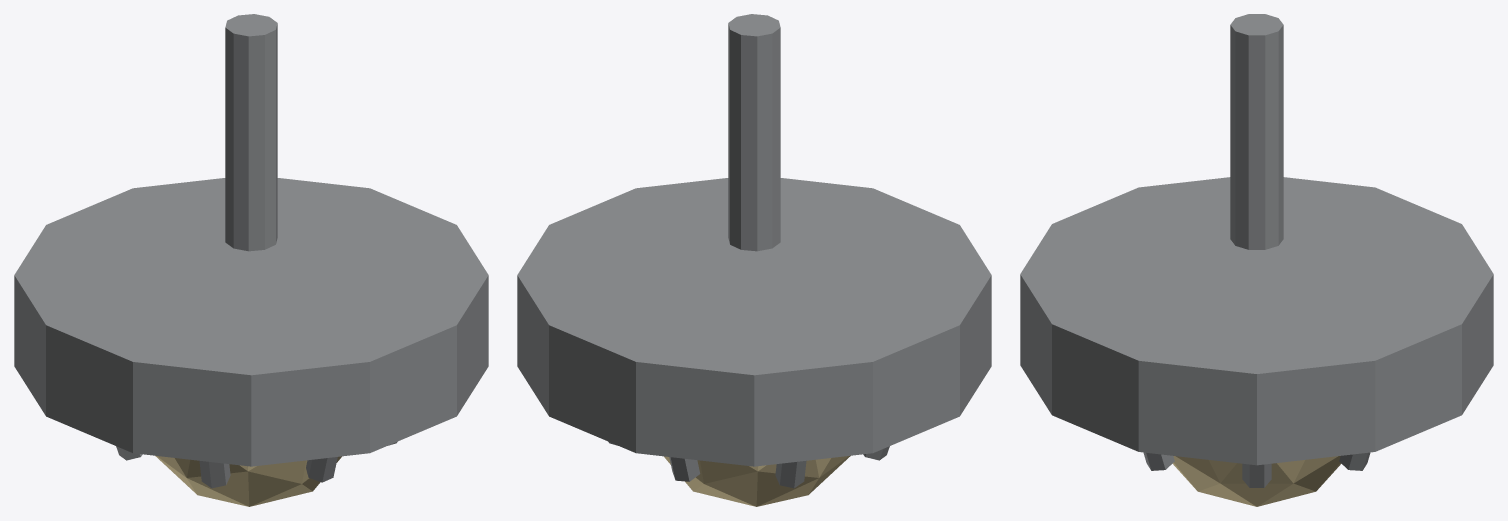
File: deckenlampe_1940.glb
3 views of the same model, side by side, from view 1: azimuth 30°, elevation 25°; view 2: azimuth 150°, elevation 25°; view 3: azimuth 270°, elevation 25° (orthographic).
Parts seen in each view (by area): view 1: deckenlampe_1940_n2, deckenlampe_1940_n1, deckenlampe_1940_n3, deckenlampe_1940_n7, deckenlampe_1940_n6; view 2: deckenlampe_1940_n2, deckenlampe_1940_n1, deckenlampe_1940_n3, deckenlampe_1940_n9, deckenlampe_1940_n10; view 3: deckenlampe_1940_n2, deckenlampe_1940_n1, deckenlampe_1940_n3, deckenlampe_1940_n4.
Boxes of the visible parts, <box> form: deckenlampe_1940_n2: <box>14,178,488,466</box>; deckenlampe_1940_n1: <box>225,14,277,251</box>; deckenlampe_1940_n3: <box>155,455,341,506</box>; deckenlampe_1940_n7: <box>199,460,230,488</box>; deckenlampe_1940_n6: <box>306,457,337,482</box>; deckenlampe_1940_n2: <box>517,178,991,466</box>; deckenlampe_1940_n1: <box>728,14,780,251</box>; deckenlampe_1940_n3: <box>664,455,850,506</box>; deckenlampe_1940_n9: <box>775,460,806,488</box>; deckenlampe_1940_n10: <box>669,457,700,481</box>; deckenlampe_1940_n2: <box>1020,177,1493,465</box>; deckenlampe_1940_n1: <box>1230,14,1283,249</box>; deckenlampe_1940_n3: <box>1172,456,1341,506</box>; deckenlampe_1940_n4: <box>1242,463,1271,487</box>.
Bounding box in the file's own units: 0.8 × 0.88 × 0.8.
